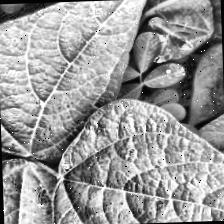ALS: (45, 95, 224, 224), (0, 0, 151, 145), (2, 158, 62, 224)
